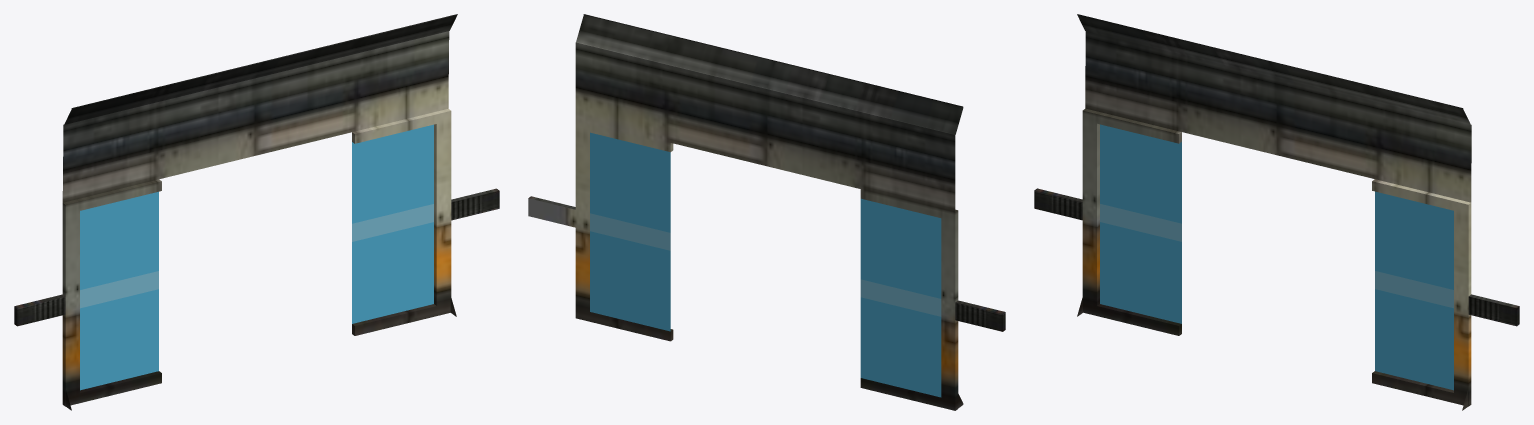
Rendered from wall_doors_open.glb.
The picture shows the model from 3 angles, left to right: view 1: azimuth 30°, elevation 25°; view 2: azimuth 150°, elevation 25°; view 3: azimuth 330°, elevation 25°; orthographic projection.
Parts seen in each view (by area): view 1: WideDoorsFrame; view 2: WideDoorsFrame; view 3: WideDoorsFrame.
Boxes of the visible parts, left/top/right/bottom form: WideDoorsFrame: left=14, top=14, right=499, bottom=410; WideDoorsFrame: left=528, top=14, right=1005, bottom=410; WideDoorsFrame: left=1034, top=14, right=1519, bottom=410.
Bounding box in the file's own units: 10 × 6 × 0.3103.
Materials: 3 (1 with a texture image).
